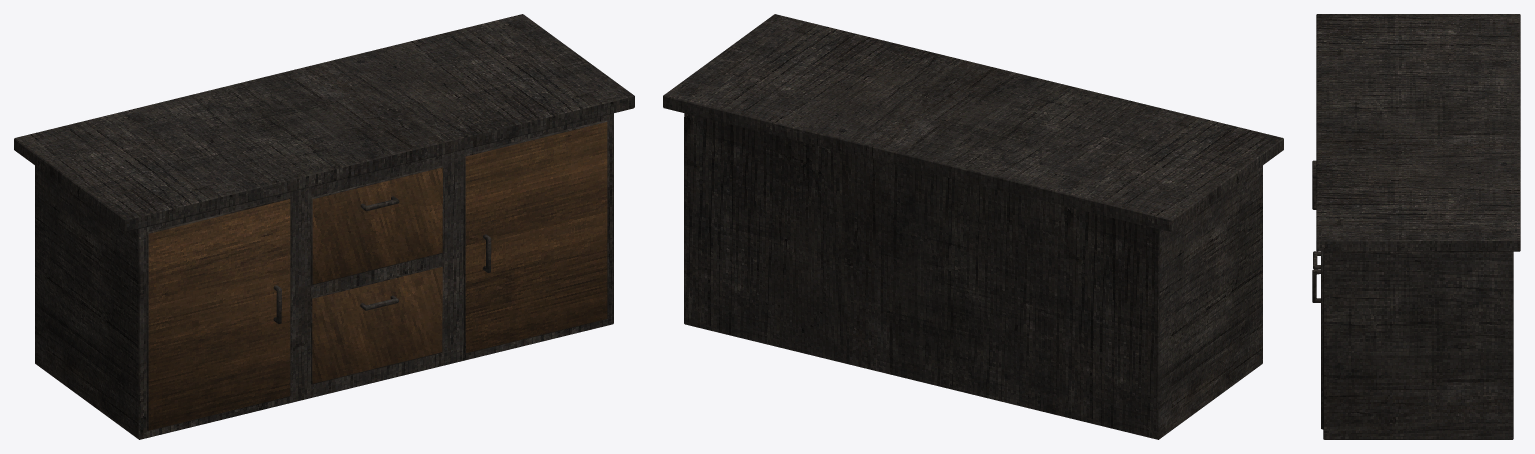
The model's file is lowCabinet.glb.
The picture shows the model from 3 angles, left to right: view 1: azimuth 30°, elevation 25°; view 2: azimuth 150°, elevation 25°; view 3: azimuth 270°, elevation 25°; orthographic projection. The views are drawn at different scales.
Visible parts, largest first — view 1: Cabinet, RightDoor, LeftDoor, TopDrawer, BottomDrawer; view 2: Cabinet; view 3: Cabinet, RightDoor.
Boxes of the visible parts, left/top/right/bottom form: Cabinet: left=14, top=14, right=634, bottom=439; RightDoor: left=463, top=120, right=607, bottom=353; LeftDoor: left=146, top=197, right=290, bottom=430; TopDrawer: left=310, top=166, right=442, bottom=285; BottomDrawer: left=311, top=265, right=442, bottom=384; Cabinet: left=663, top=14, right=1283, bottom=439; Cabinet: left=1316, top=14, right=1520, bottom=439; RightDoor: left=1312, top=251, right=1323, bottom=429.
Bounding box in the file's own units: 2.01 × 0.8566 × 0.7787.
2 materials, 2 textured.
